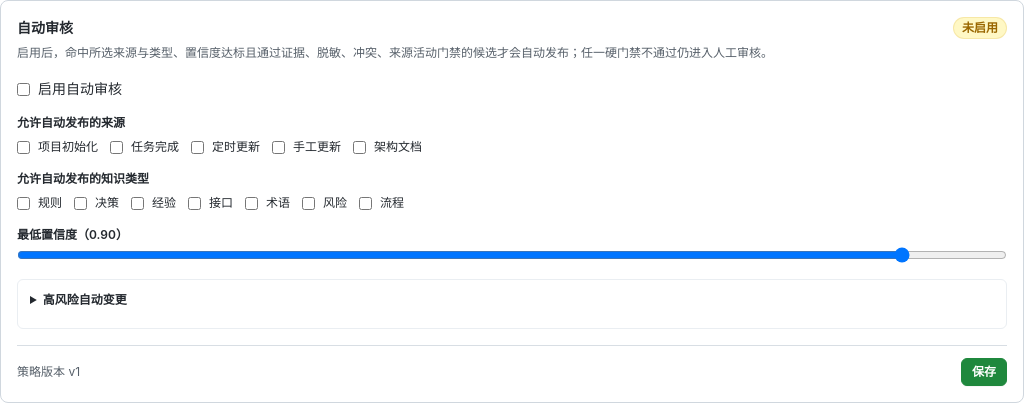
it: KnowledgePolicySettings › surfaces backend validation failures without losing the form
Click the checkbox labelled "启用自动审核".
click(24, 89)  # box [17,82,30,96]
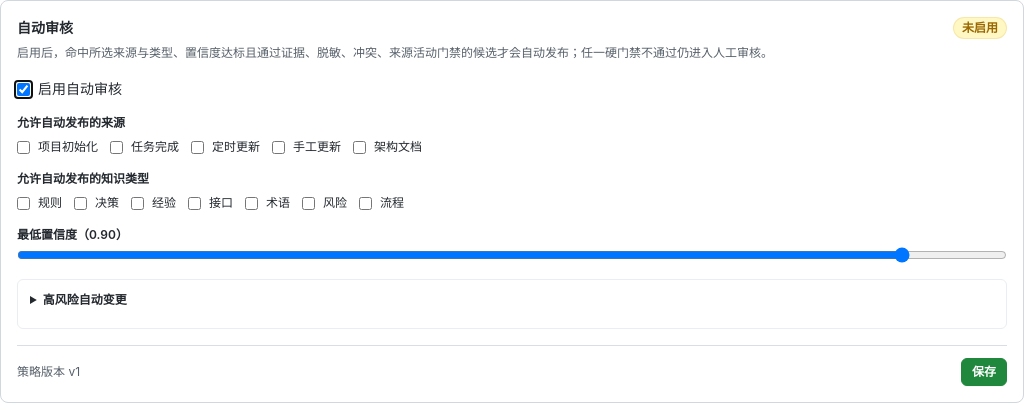
Click the button "保存".
click(984, 372)  # box [961,358,1007,386]
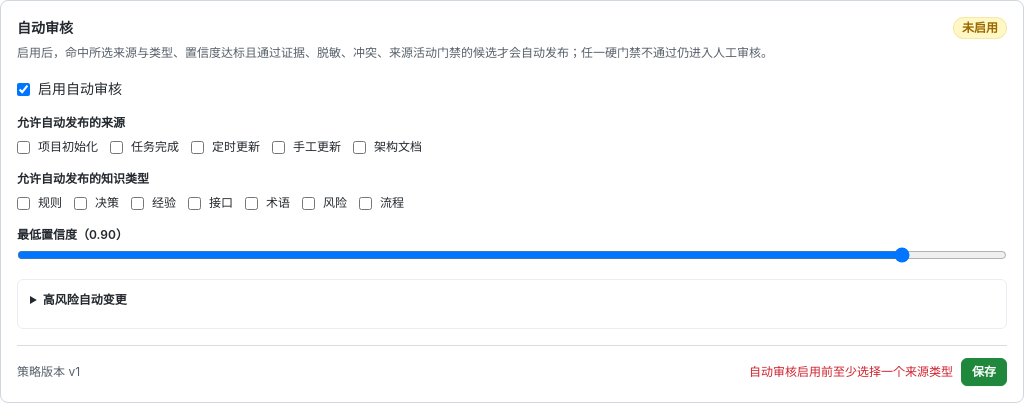
Check: the checkbox labelled "启用自动审核" is checked, box [17,82,30,96]
Check: the message reads "自动审核启用前至少选择一个来源类型", box [749,364,953,379]
